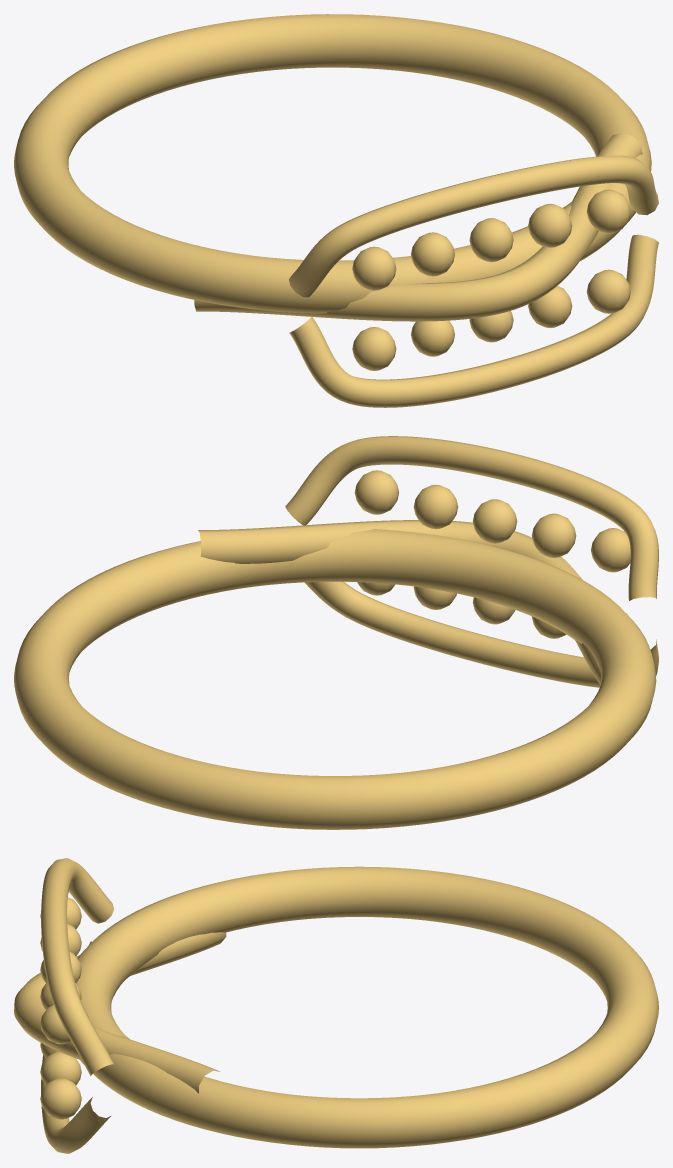
Rendered from horizon-prototype.glb.
3 renders of one model, top to bottom at view 1: azimuth 30°, elevation 25°; view 2: azimuth 150°, elevation 25°; view 3: azimuth 270°, elevation 25°, orthographic. The views are drawn at different scales.
Visible parts, largest first — view 1: metal (×14); view 2: metal (×11); view 3: metal (×7).
Part boxes in pixels (bbox=[...]): metal (×14): bbox=[14, 14, 658, 407]; metal (×11): bbox=[14, 436, 658, 829]; metal (×7): bbox=[14, 858, 658, 1153].
Bounding box in the file's own units: 2.45 × 0.9052 × 2.64.
